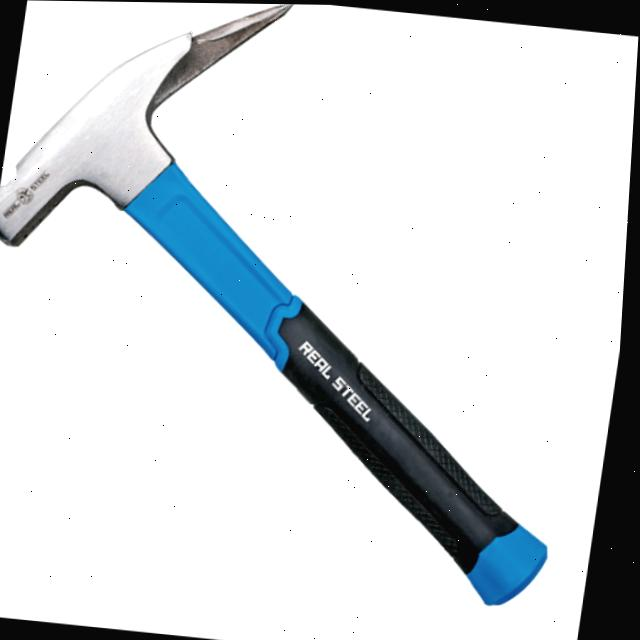hammer: (0, 0, 637, 619)
